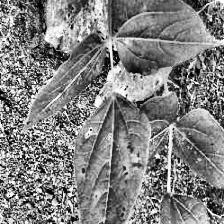ALS: (76, 94, 144, 224), (18, 35, 106, 134), (91, 55, 178, 107), (45, 0, 118, 61)
